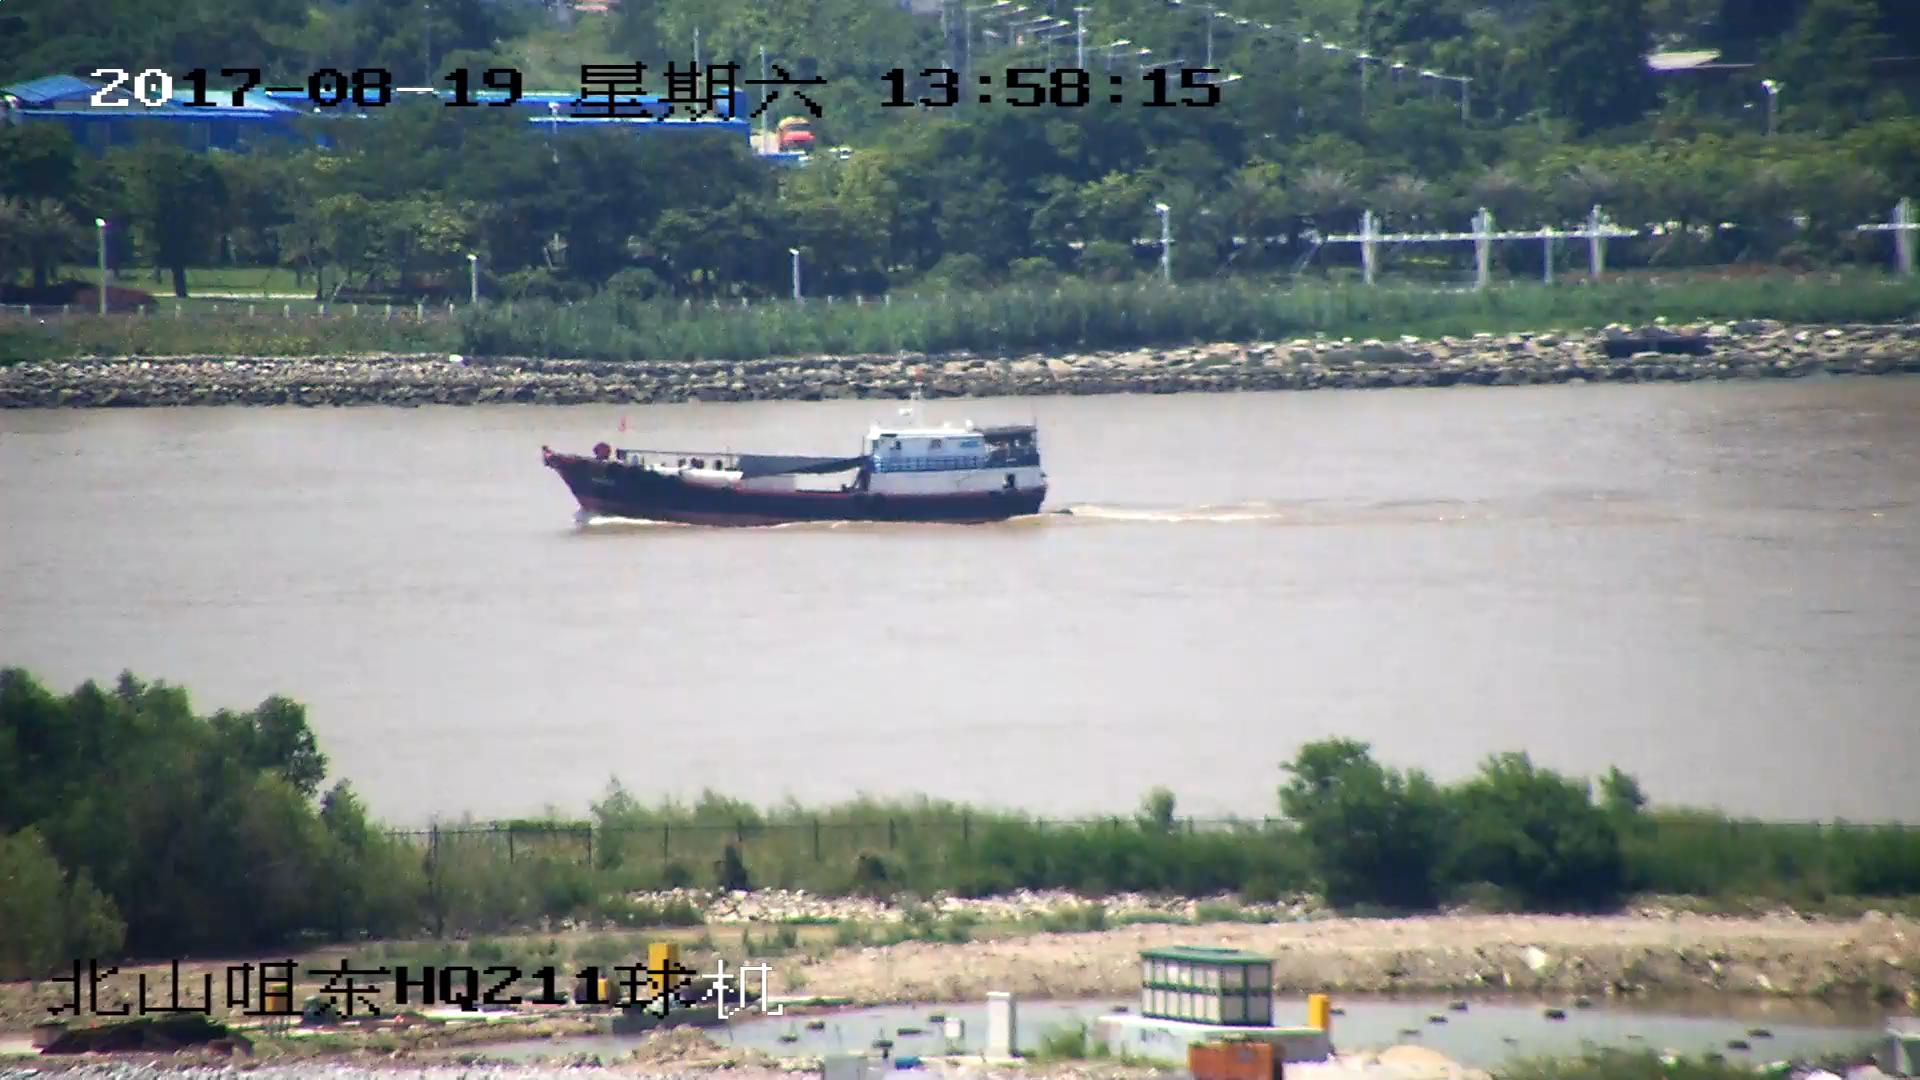fishing boat: (545, 409, 1049, 526)
